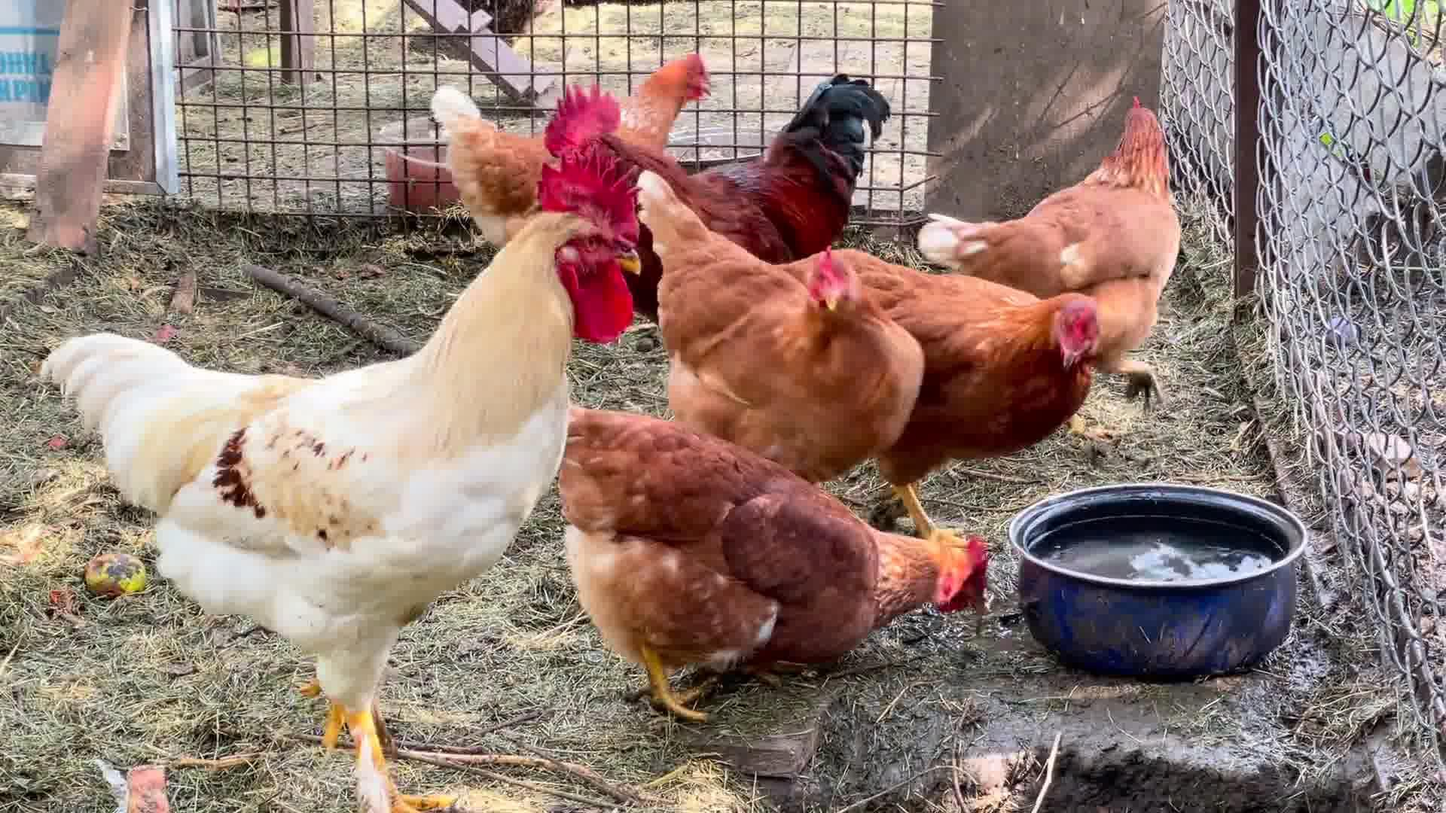Normal: (47, 142, 647, 813), (575, 403, 1018, 737), (443, 68, 893, 324), (917, 91, 1198, 371), (661, 196, 936, 473), (872, 260, 1125, 483)
